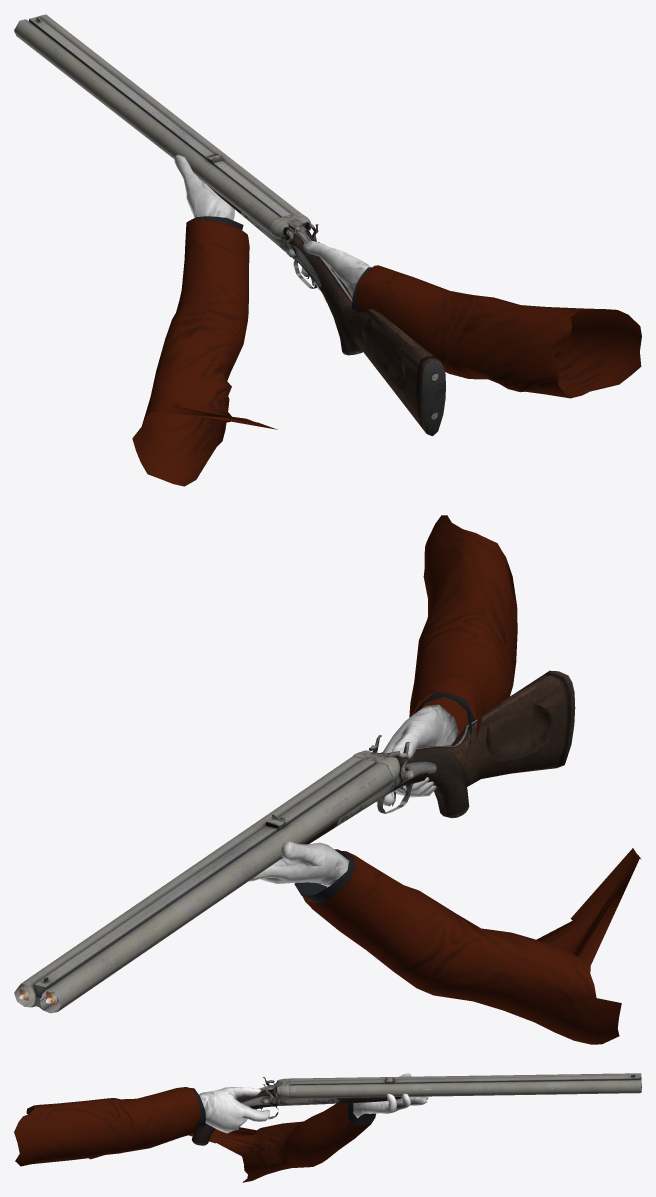
Rendered from frame_15.obj.
3 views of the same model, one above another, from view 1: azimuth 30°, elevation 25°; view 2: azimuth 150°, elevation 25°; view 3: azimuth 270°, elevation 25° (orthographic). The views are drawn at different scales.
Visible parts, largest first — view 1: PlayerModelMerged.001_PlayerModelMerged, double_-_barreled_shotgun_L_double_-_barreled_shotgun_LP_к.002, double_-_barreled_shotgun_L_double_-_barreled_shotgun_LP_к.001; view 2: PlayerModelMerged.001_PlayerModelMerged, double_-_barreled_shotgun_L_double_-_barreled_shotgun_LP_к.002, double_-_barreled_shotgun_L_double_-_barreled_shotgun_LP_к.001; view 3: PlayerModelMerged.001_PlayerModelMerged, double_-_barreled_shotgun_L_double_-_barreled_shotgun_LP_к.002, double_-_barreled_shotgun_L_double_-_barreled_shotgun_LP_к.001.
Boxes of the visible parts, left/top/right/bottom form: PlayerModelMerged.001_PlayerModelMerged: left=132, top=154, right=641, bottom=486; double_-_barreled_shotgun_L_double_-_barreled_shotgun_LP_к.002: left=14, top=14, right=299, bottom=233; double_-_barreled_shotgun_L_double_-_barreled_shotgun_LP_к.001: left=208, top=186, right=445, bottom=436; PlayerModelMerged.001_PlayerModelMerged: left=248, top=515, right=641, bottom=1044; double_-_barreled_shotgun_L_double_-_barreled_shotgun_LP_к.002: left=14, top=756, right=392, bottom=1013; double_-_barreled_shotgun_L_double_-_barreled_shotgun_LP_к.001: left=282, top=670, right=575, bottom=858; PlayerModelMerged.001_PlayerModelMerged: left=14, top=1073, right=428, bottom=1182; double_-_barreled_shotgun_L_double_-_barreled_shotgun_LP_к.002: left=290, top=1073, right=641, bottom=1098; double_-_barreled_shotgun_L_double_-_barreled_shotgun_LP_к.001: left=89, top=1077, right=401, bottom=1159.
Bounding box in the file's own units: 0.8331 × 0.549 × 2.
